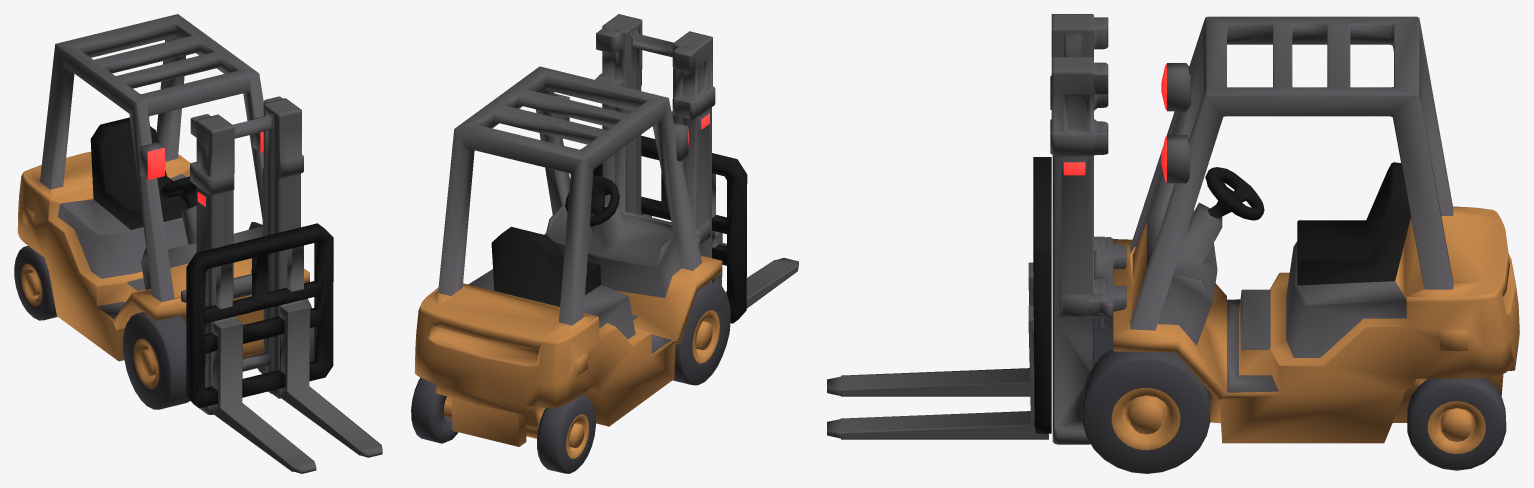
File: yale.glb
The picture shows the model from 3 angles, left to right: view 1: azimuth 30°, elevation 25°; view 2: azimuth 150°, elevation 25°; view 3: azimuth 270°, elevation 25°; orthographic projection. The views are drawn at different scales.
Parts seen in each view (by area): view 1: mesh_rep_0_ori_repair_quad.002; view 2: mesh_rep_0_ori_repair_quad.002; view 3: mesh_rep_0_ori_repair_quad.002.
Boxes of the visible parts, <box> form: mesh_rep_0_ori_repair_quad.002: <box>14,14,382,473</box>; mesh_rep_0_ori_repair_quad.002: <box>411,14,798,473</box>; mesh_rep_0_ori_repair_quad.002: <box>827,14,1519,473</box>.
Bounding box in the file's own units: 2.81 × 5.15 × 8.37.
